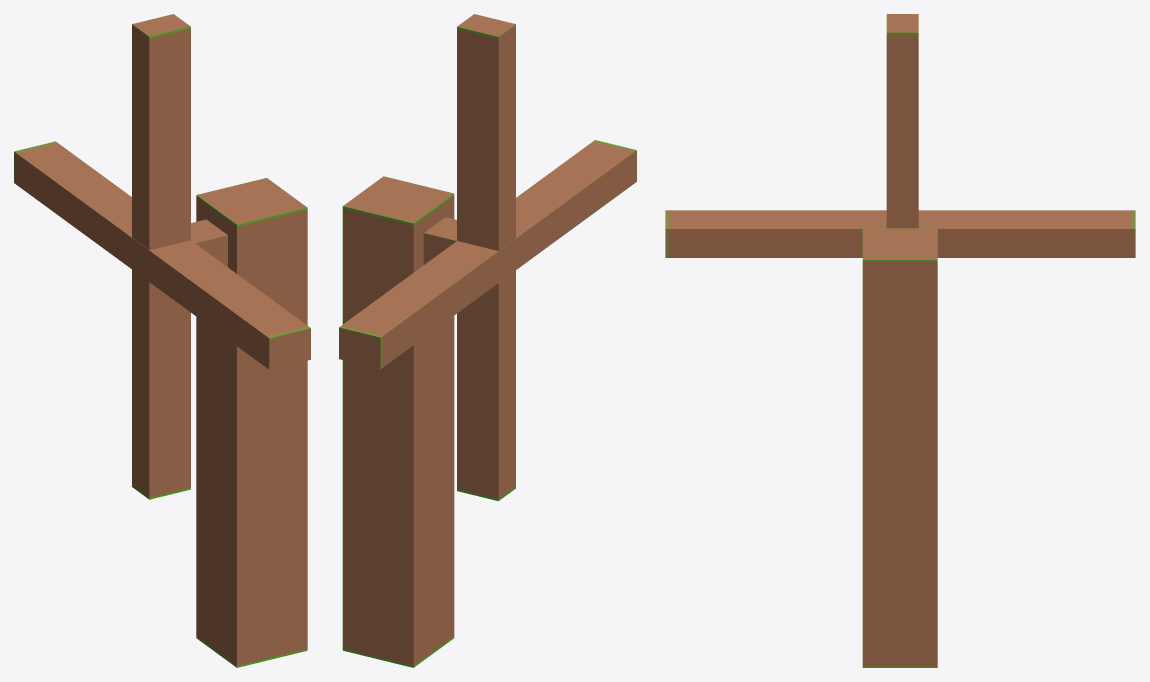
The model's file is Windmill.FBX.
The picture shows the model from 3 angles, left to right: view 1: azimuth 30°, elevation 25°; view 2: azimuth 150°, elevation 25°; view 3: azimuth 270°, elevation 25°; orthographic projection. The views are drawn at different scales.
Parts seen in each view (by area): view 1: Box001; view 2: Box001; view 3: Box001.
Boxes of the visible parts, <box> form: Box001: <box>14,14,310,667</box>; Box001: <box>339,14,636,667</box>; Box001: <box>665,14,1135,667</box>.
Bounding box in the file's own units: 10.95 × 46.06 × 33.33.
1 material, 1 textured.
